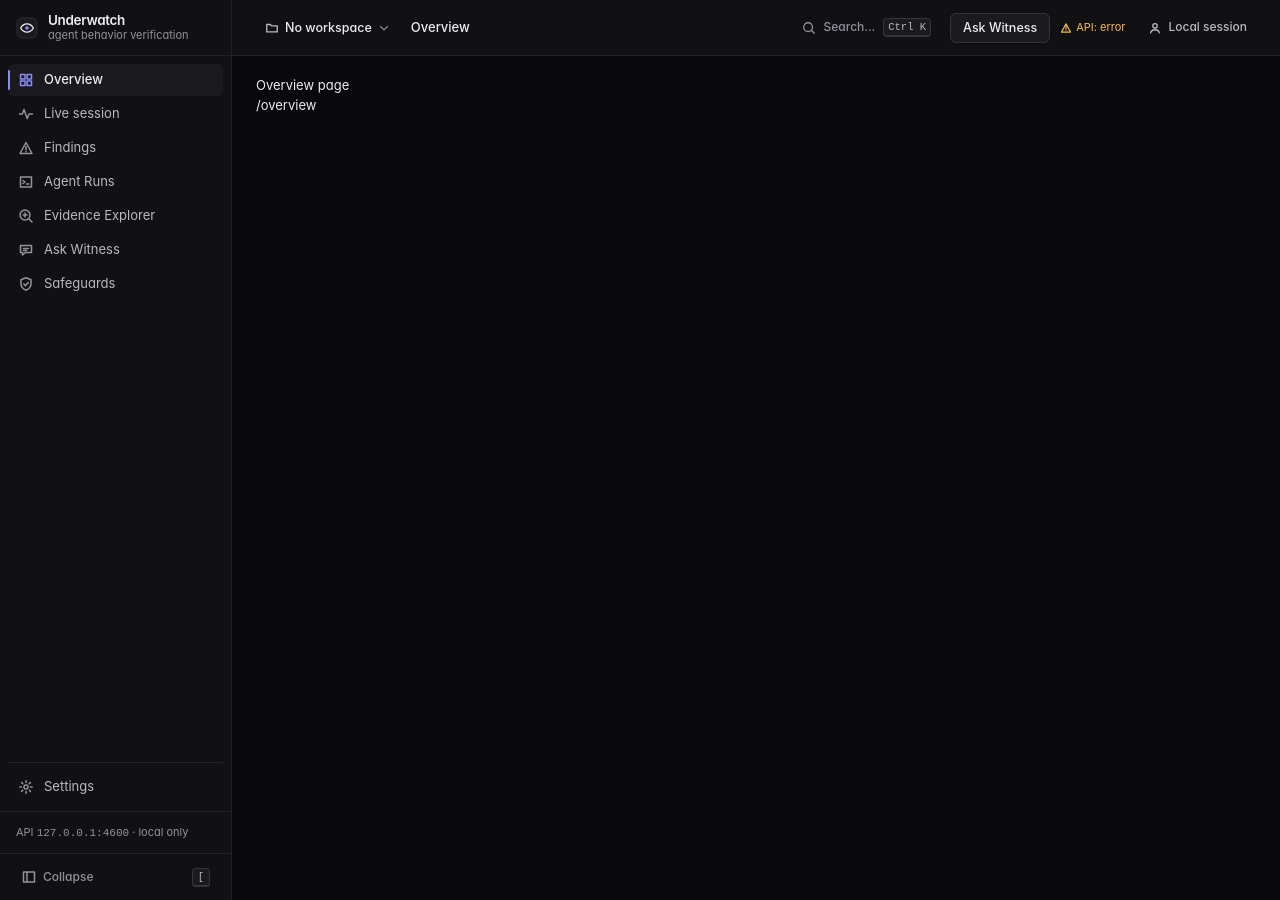
Test: app shell navigation › lists every section, including Evidence Explorer, Ask Witness and Settings, and navigates
Expected: the link "Overview" is shown, [8,64,223,96]
Expected: the link "Findings" is shown, [18,139,96,156]
Click the link "Evidence Explorer": (87, 216) [18,207,155,224]
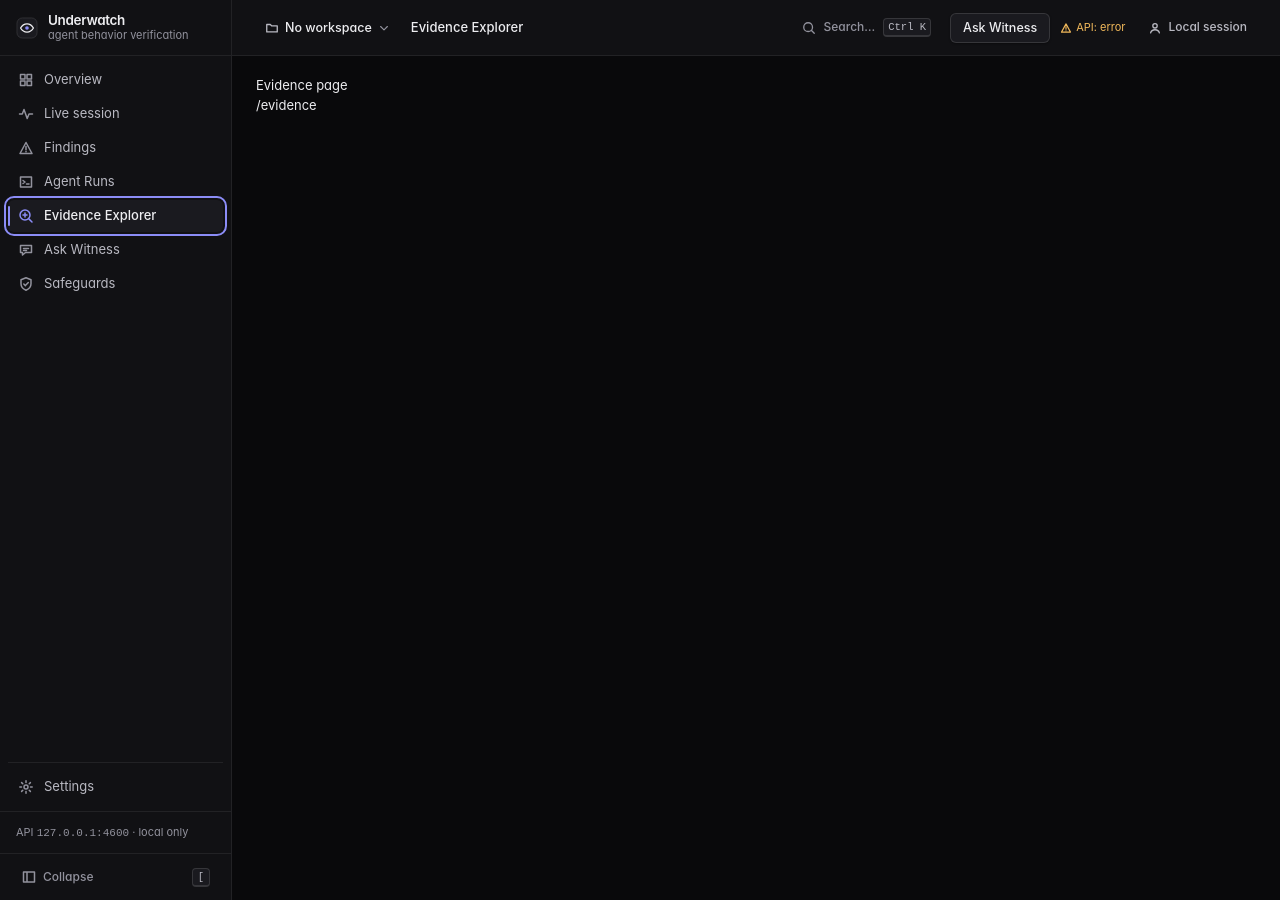
Expected: the heading "Evidence page" is shown, [256,77,348,93]
Click the link "Ask Witness": (69, 250) [18,241,120,258]
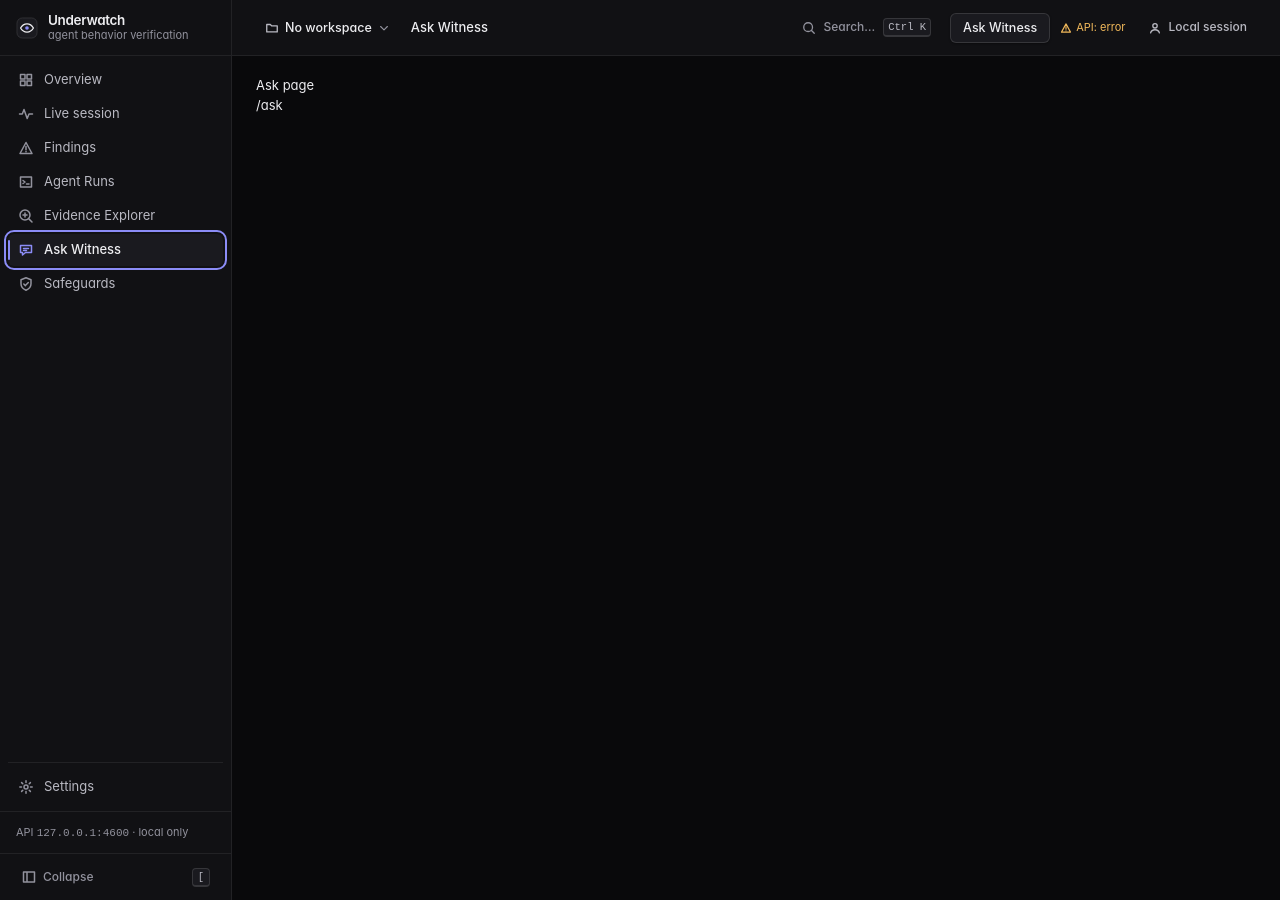
Expected: the heading "Ask page" is shown, [256,77,314,93]
